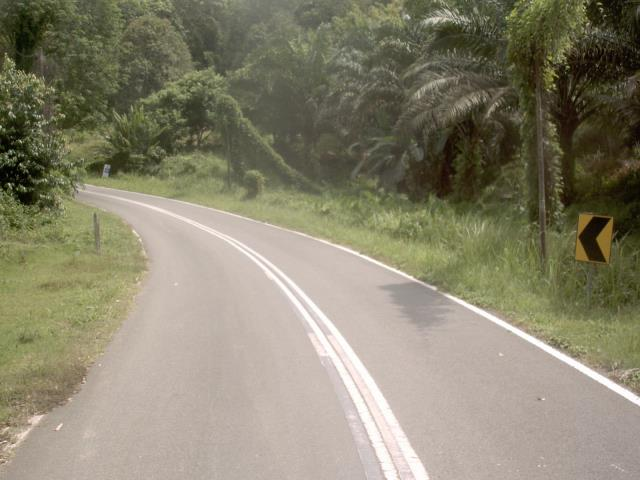traffic_sign: (565, 203, 621, 274)
